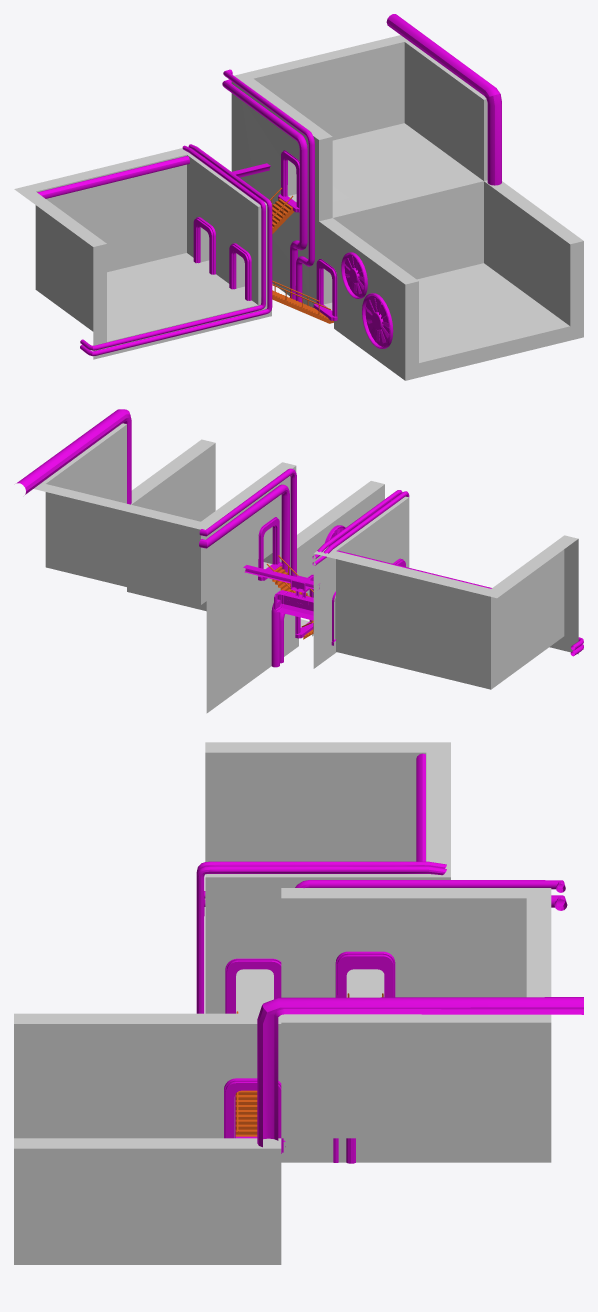
Rendered from building.fbx.
3 views of the same model, one above another, from view 1: azimuth 30°, elevation 25°; view 2: azimuth 150°, elevation 25°; view 3: azimuth 270°, elevation 25° (orthographic). The views are drawn at different scales.
Parts seen in each view (by area): view 1: Map Design; view 2: Map Design; view 3: Map Design.
Boxes of the visible parts, left/top/right/bottom form: Map Design: left=14, top=14, right=583, bottom=380; Map Design: left=16, top=409, right=583, bottom=713; Map Design: left=14, top=742, right=583, bottom=1264.
Size of the model in its own units: 40.48 by 16.95 by 29.74.
